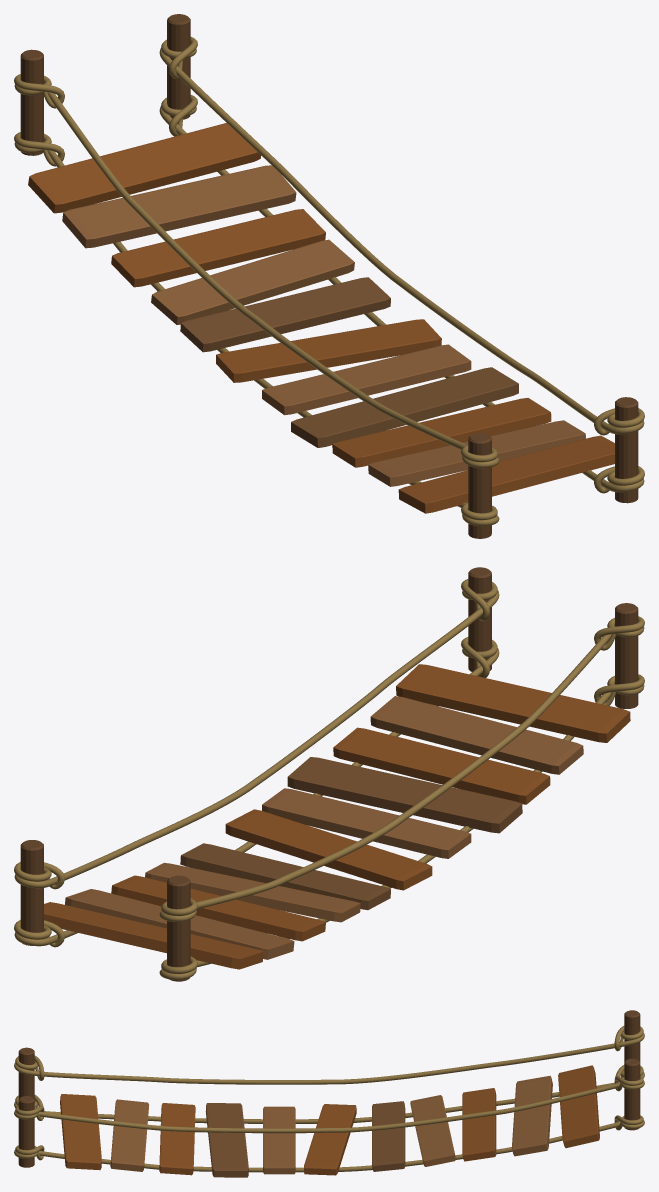
Rendered from Hängebrücke Hoch.fbx.
3 views of the same model, one above another, from view 1: azimuth 30°, elevation 25°; view 2: azimuth 150°, elevation 25°; view 3: azimuth 270°, elevation 25° (orthographic). The views are drawn at different scales.
Parts seen in each view (by area): view 1: Cube.011, Cube.010, Cube.009, Cube.008, Cube.004, Cube.007, Cube.006, Cube.005, Seil Oben, Cube.001, Cube.003, Seil Oben2 (+5 smaller); view 2: Cube.001, Cube.004, Cube.002, Cube.003, Cube.006, Cube.005, Seil Oben2, Seil Oben, Cube.007, Cube.011, Cube.009, Cube.008 (+5 smaller); view 3: Seil Oben, Seil Oben2, Cube.011, Cube.010, Cube.001, Cube.004, Cube.006, Cube.003, Cube.009, Cube.002, Cube.007, Cube.008 (+5 smaller).
Part boxes in pixels (<box>): Cube.011: <box>28,122,261,213</box>; Cube.010: <box>62,165,296,248</box>; Cube.009: <box>111,209,325,287</box>; Cube.008: <box>151,239,354,324</box>; Cube.004: <box>291,367,518,447</box>; Cube.007: <box>180,277,390,352</box>; Cube.006: <box>216,319,441,382</box>; Cube.005: <box>262,344,471,415</box>; Seil Oben: <box>14,37,403,321</box>; Cube.001: <box>398,435,614,513</box>; Cube.003: <box>332,398,551,467</box>; Seil Oben2: <box>253,280,644,468</box>; Cube.001: <box>396,664,630,742</box>; Cube.004: <box>287,757,522,833</box>; Cube.002: <box>370,696,583,774</box>; Cube.003: <box>333,727,550,804</box>; Cube.006: <box>225,809,432,890</box>; Cube.005: <box>262,788,471,858</box>; Seil Oben2: <box>255,579,644,820</box>; Seil Oben: <box>14,779,405,921</box>; Cube.007: <box>180,843,390,910</box>; Cube.011: <box>44,902,263,969</box>; Cube.009: <box>111,875,325,941</box>; Cube.008: <box>145,862,360,922</box>; Seil Oben: <box>329,1026,644,1132</box>; Seil Oben2: <box>14,1055,329,1133</box>; Cube.011: <box>558,1065,599,1148</box>; Cube.010: <box>512,1075,552,1156</box>; Cube.001: <box>60,1094,101,1170</box>; Cube.004: <box>205,1103,248,1177</box>; Cube.006: <box>304,1104,356,1175</box>; Cube.003: <box>159,1103,195,1175</box>; Cube.009: <box>462,1088,496,1161</box>; Cube.002: <box>110,1099,149,1171</box>; Cube.007: <box>372,1101,405,1171</box>; Cube.008: <box>410,1095,455,1166</box>.
Bounding box in the file's own units: 205 × 151 × 782.
